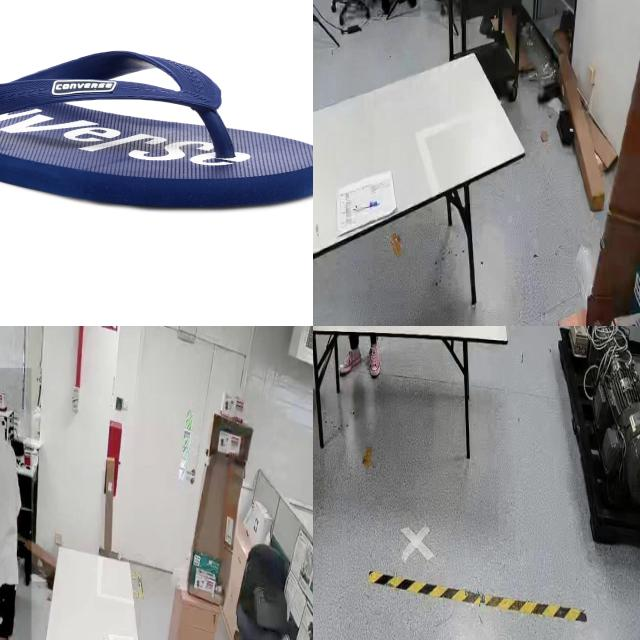Sandals: (0, 49, 313, 213)
person: (0, 368, 31, 640)
shoes: (338, 344, 364, 379), (366, 344, 384, 382), (375, 0, 394, 20), (401, 0, 422, 17)
